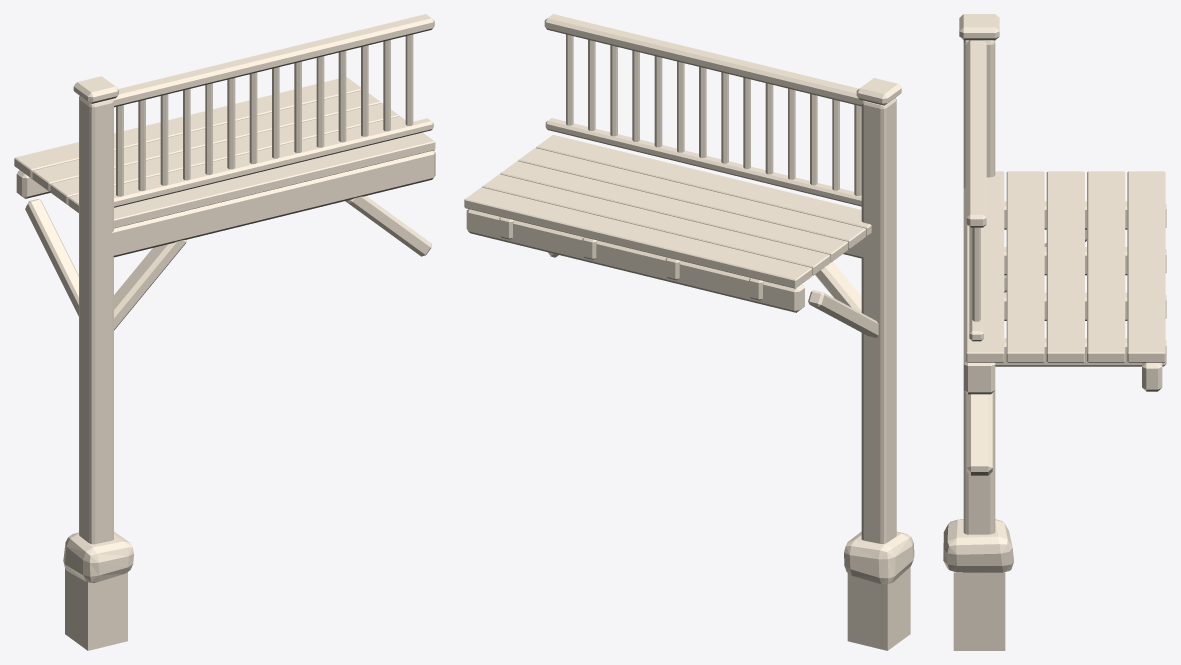
Rendered from SM_VK_Gallery_Timber.fbx.
The picture shows the model from 3 angles, left to right: view 1: azimuth 30°, elevation 25°; view 2: azimuth 150°, elevation 25°; view 3: azimuth 270°, elevation 25°; orthographic projection. The views are drawn at different scales.
Visible parts, largest first — view 1: SM_VK_Gallery_Timber.001; view 2: SM_VK_Gallery_Timber.001; view 3: SM_VK_Gallery_Timber.001.
Boxes of the visible parts, left/top/right/bottom form: SM_VK_Gallery_Timber.001: left=14, top=14, right=435, bottom=650; SM_VK_Gallery_Timber.001: left=464, top=14, right=914, bottom=650; SM_VK_Gallery_Timber.001: left=943, top=14, right=1166, bottom=650.
Bounding box in the file's own units: 3.22 × 4.75 × 1.55.
